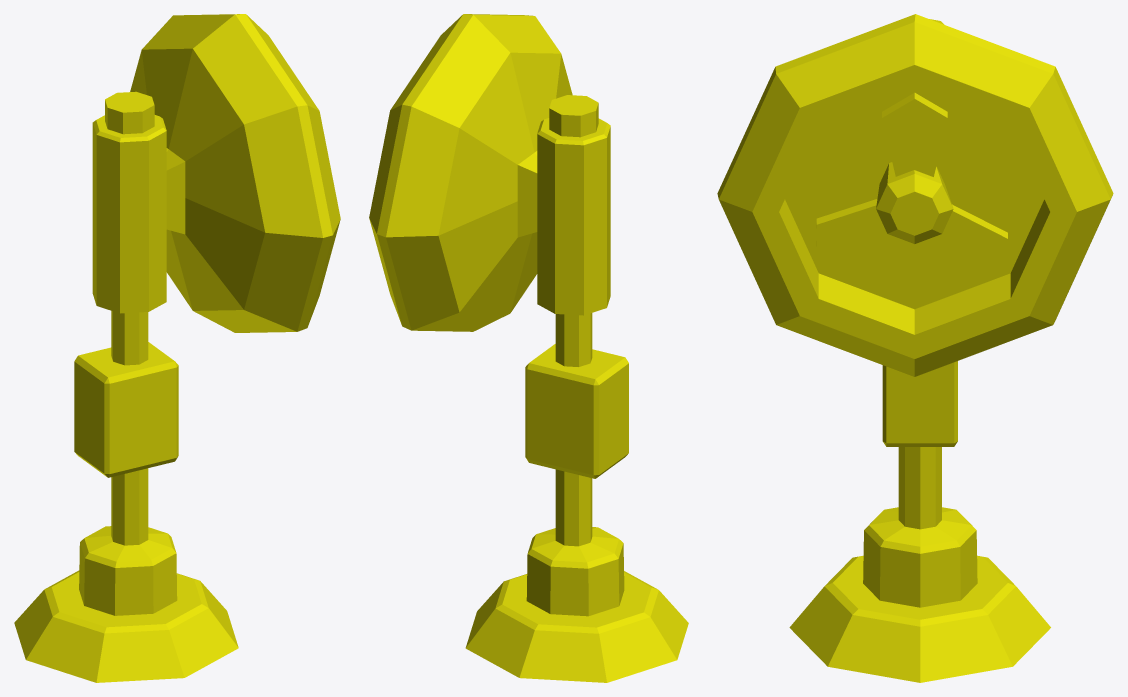
The model's file is obj_SmartFan.glb.
The picture shows the model from 3 angles, left to right: view 1: azimuth 30°, elevation 25°; view 2: azimuth 150°, elevation 25°; view 3: azimuth 270°, elevation 25°; orthographic projection. The views are drawn at different scales.
Parts seen in each view (by area): view 1: obj_Smart_Fan; view 2: obj_Smart_Fan; view 3: obj_Smart_Fan.
Boxes of the visible parts, x1,y1,x2,y2 form: obj_Smart_Fan: [14, 14, 340, 682]; obj_Smart_Fan: [369, 14, 688, 682]; obj_Smart_Fan: [717, 14, 1113, 682].
Size of the model in its own units: 0.64 by 1.5 by 0.8001.
